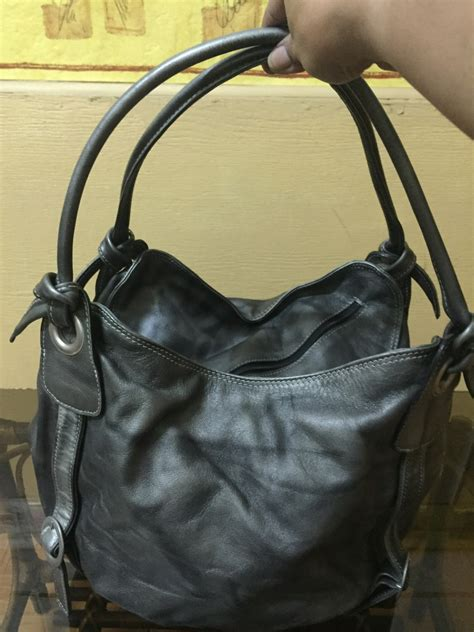cuero: (10, 27, 474, 629)
